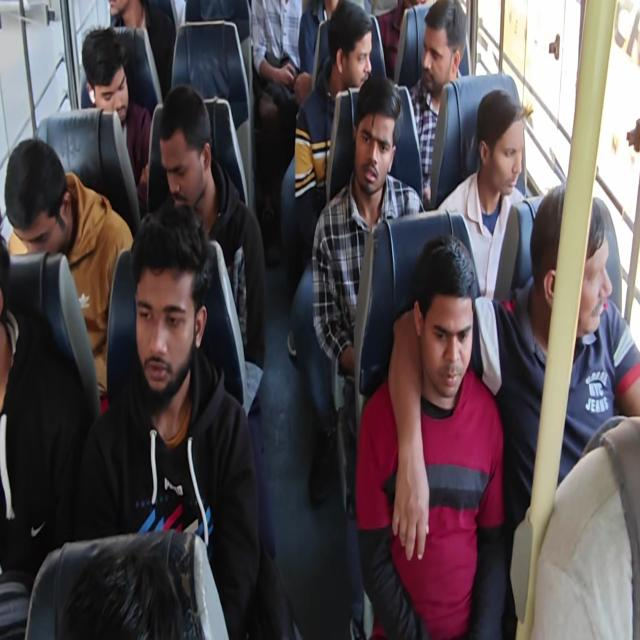person: (126, 211, 201, 397), (547, 190, 613, 352), (5, 156, 91, 265), (403, 270, 479, 392), (156, 103, 216, 216), (83, 49, 145, 134), (477, 96, 530, 192), (413, 5, 462, 105), (351, 106, 395, 200), (332, 15, 374, 96), (102, 0, 146, 30)
